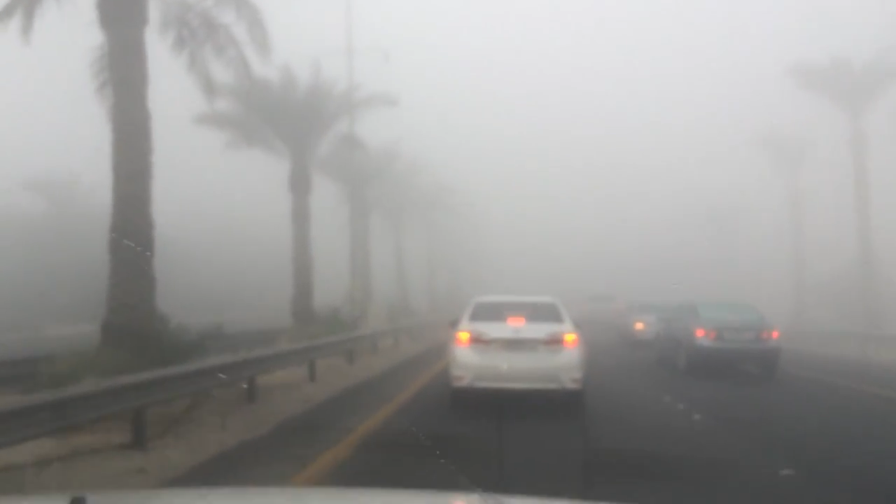car: (445, 293, 588, 403), (655, 299, 781, 369), (623, 303, 677, 341)
